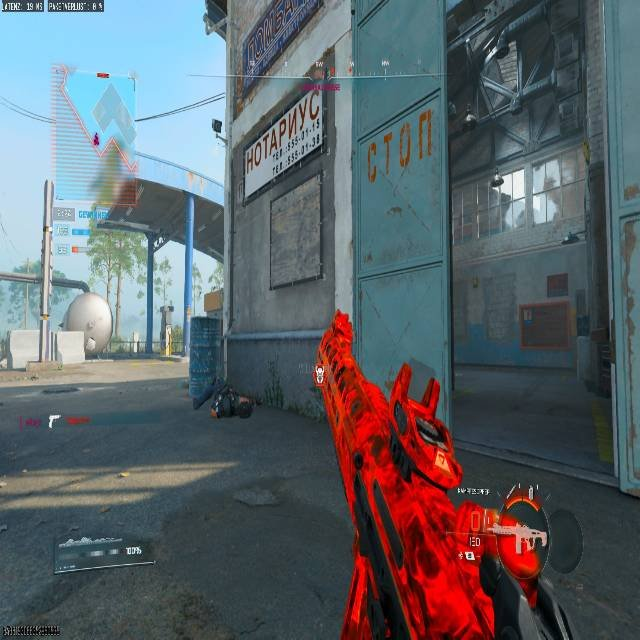head: (237, 396, 254, 416), (212, 375, 225, 387)
player: (192, 375, 258, 419)
